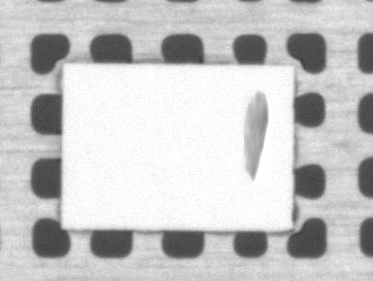DIE_INK: (239, 91, 270, 180)
